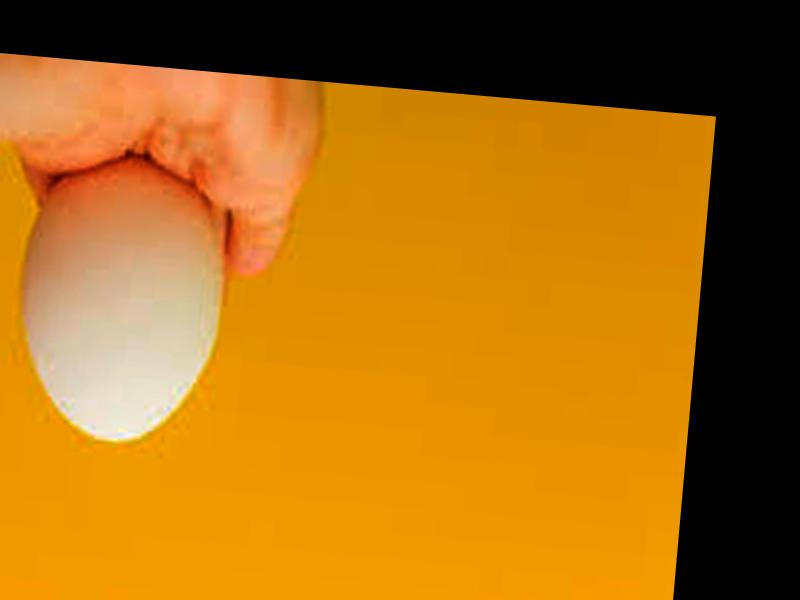Eggs: (16, 151, 232, 452)
